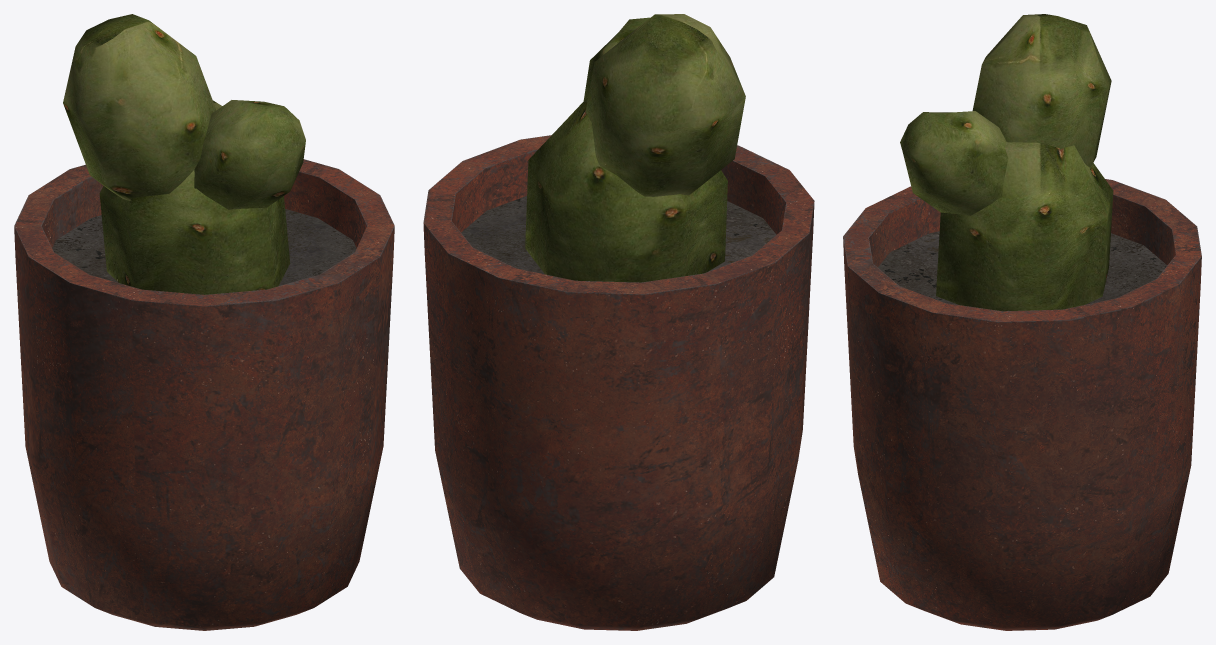
File: office_cactus_cylinder.fbx
3 renders of one model, left to right at view 1: azimuth 30°, elevation 25°; view 2: azimuth 150°, elevation 25°; view 3: azimuth 270°, elevation 25°, orthographic. The views are drawn at different scales.
Parts seen in each view (by area): view 1: office_cactus_cylinder; view 2: office_cactus_cylinder; view 3: office_cactus_cylinder.
Part boxes in pixels (x1,y1,x2,y2): office_cactus_cylinder: (14,14,394,630); office_cactus_cylinder: (423,14,814,630); office_cactus_cylinder: (843,14,1201,630).
Size of the model in its own units: 0.4487 by 0.7331 by 0.4487.
